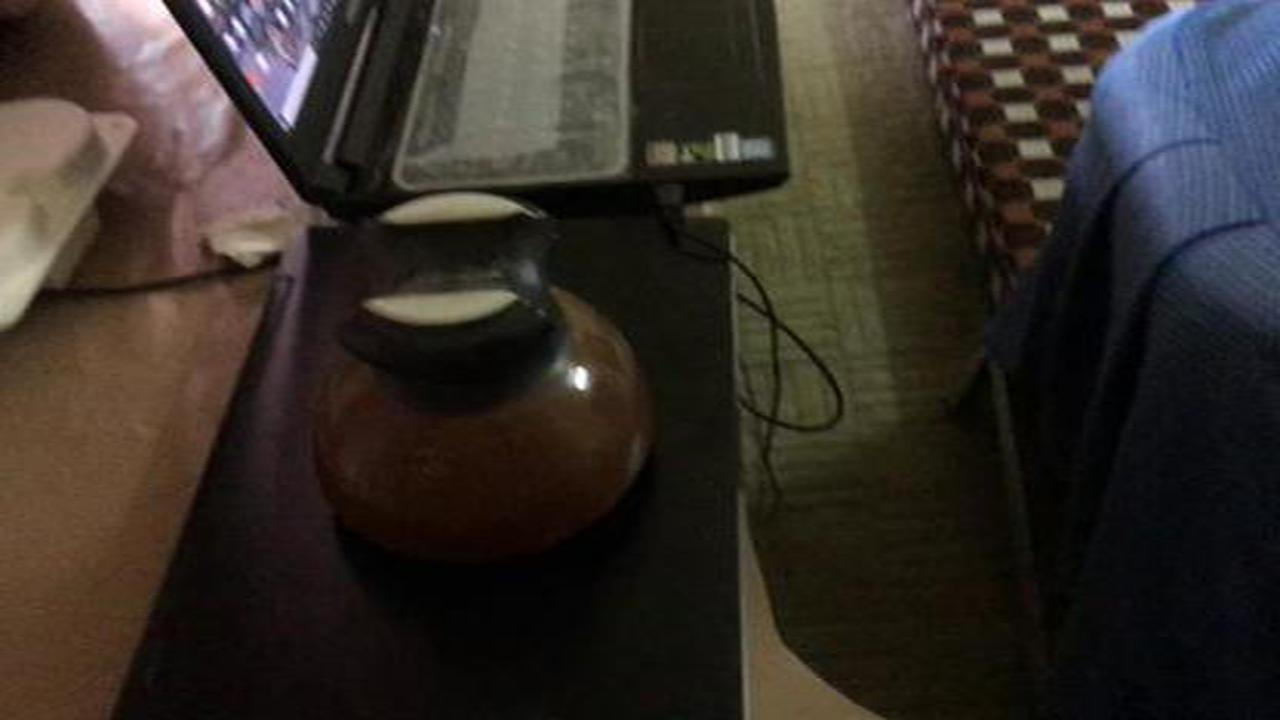insulator_pin: (293, 181, 665, 589)
